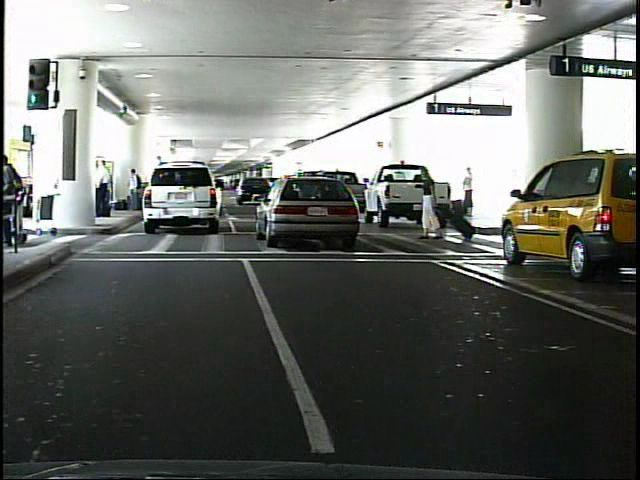person: (419, 164, 442, 243), (97, 157, 114, 218), (133, 166, 148, 217), (471, 163, 483, 209)
